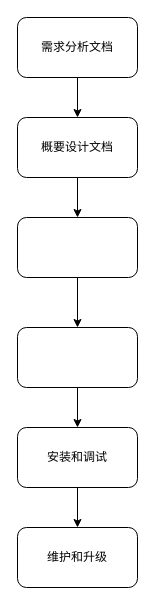
This 155x605 diagram has some shape labels left out. The shapes that lost their labels are listed below. From the top down, each one's box as (x1, y1, x2, y2) in pixels, then its label:
(16, 216, 138, 278): 详细设计文档
(16, 326, 138, 388): 编码和测试
